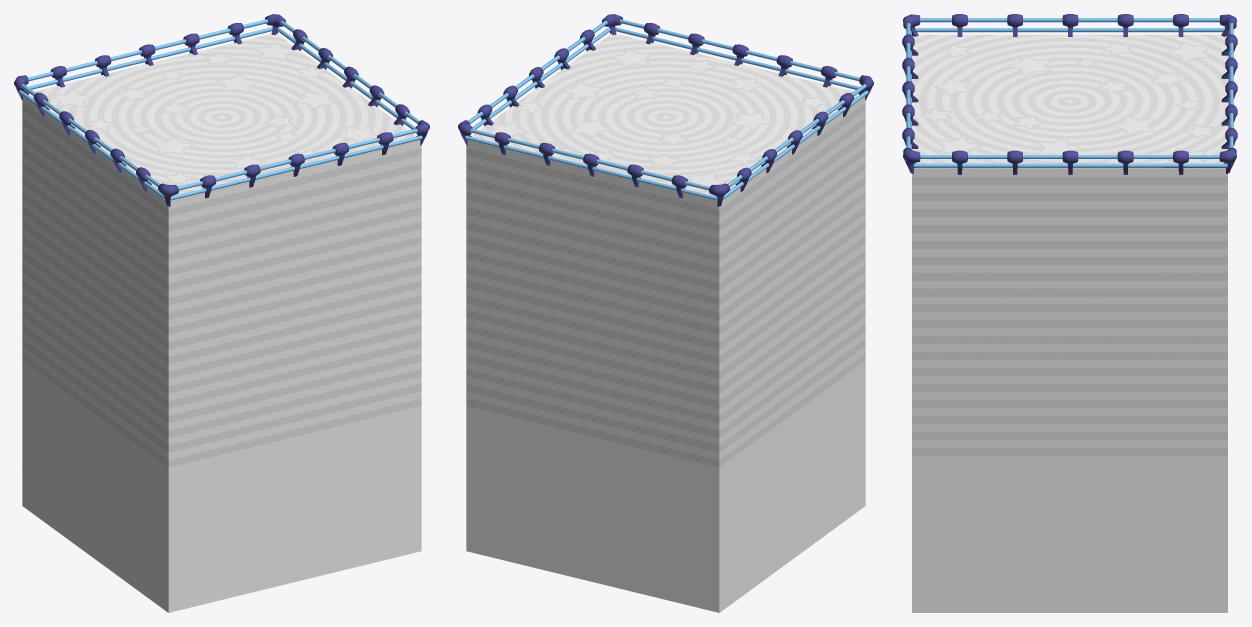
Rendered from arena.fbx.
3 views of the same model, side by side, from view 1: azimuth 30°, elevation 25°; view 2: azimuth 150°, elevation 25°; view 3: azimuth 270°, elevation 25° (orthographic). The views are drawn at different scales.
Parts seen in each view (by area): view 1: stage, Cylinder_2_2, Cylinder, Cylinder_2; view 2: stage, Cylinder_2_2, Cylinder, Cylinder_2; view 3: stage, Cylinder_2_2, Cylinder, Cylinder_2.
Part boxes in pixels (x1,y1,x2,y2): stage: (22, 33, 421, 612); Cylinder_2_2: (14, 14, 429, 206); Cylinder: (18, 27, 422, 200); Cylinder_2: (21, 19, 419, 190); stage: (466, 33, 865, 612); Cylinder_2_2: (458, 14, 873, 206); Cylinder: (465, 27, 868, 200); Cylinder_2: (468, 19, 866, 190); stage: (912, 34, 1227, 612); Cylinder_2_2: (902, 14, 1237, 174); Cylinder: (910, 28, 1229, 167); Cylinder_2: (906, 18, 1233, 158).
Size of the model in its own units: 213 by 324 by 212.
3 materials, 1 textured.
